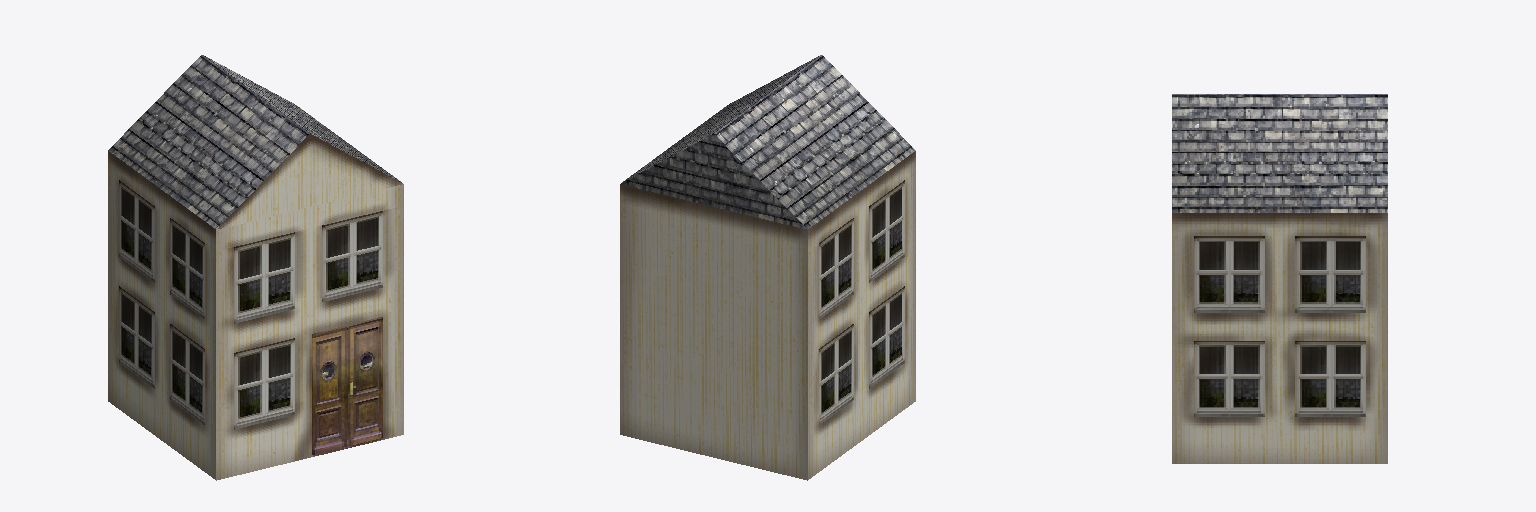
3 renders of one model, left to right at view 1: azimuth 30°, elevation 25°; view 2: azimuth 150°, elevation 25°; view 3: azimuth 270°, elevation 25°, orthographic.
Parts seen in each view (by area): view 1: house_02; view 2: house_02; view 3: house_02.
Part boxes in pixels (bbox=[...]): house_02: bbox=[108, 55, 403, 480]; house_02: bbox=[620, 55, 915, 480]; house_02: bbox=[1172, 94, 1387, 463].
Bounding box in the file's own units: 2 × 3.3 × 2.
1 materials, 1 textured.